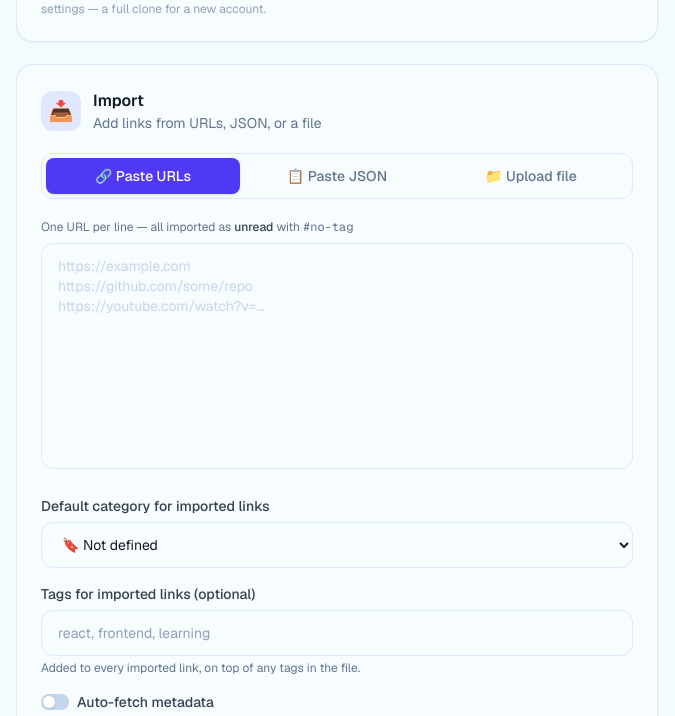
ImportExportClient › URLs import › enables the import button when URLs are entered
(page scrolled)
Replace the text in the text box with "https://example.com" at (337, 356), box top-left (41, 243), bottom-right (633, 469)
(page scrolled)
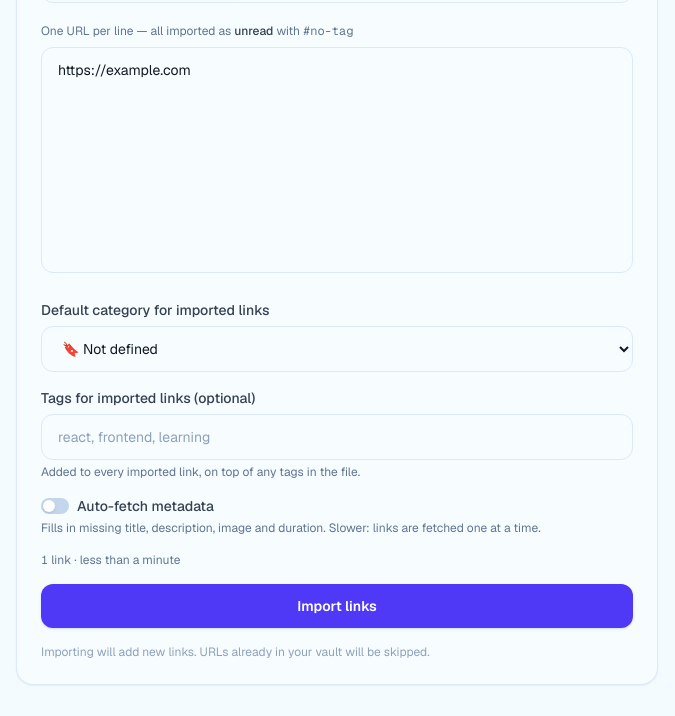
Expected: the button "Import links" is enabled, top-left (41, 584), bottom-right (633, 628)
